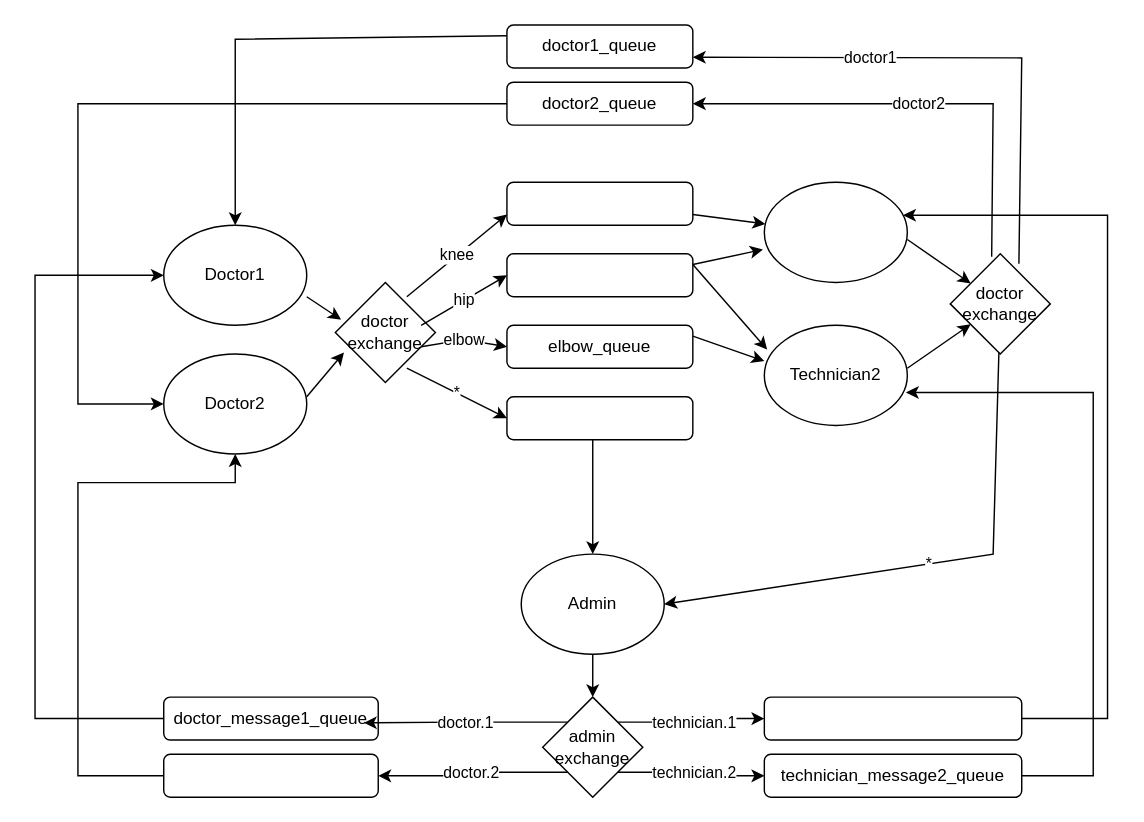
This 1144x822 diagram has some shape labels left out. The centre of each missing label's shape, as x and y in pixels:
all_injuries_queue: point 599,417
doctor_message2_queue: point 270,775
hip_queue: point 599,274
knee_queue: point 599,203
Technicia1: point 835,231
technician_message1_queue: point 892,718
